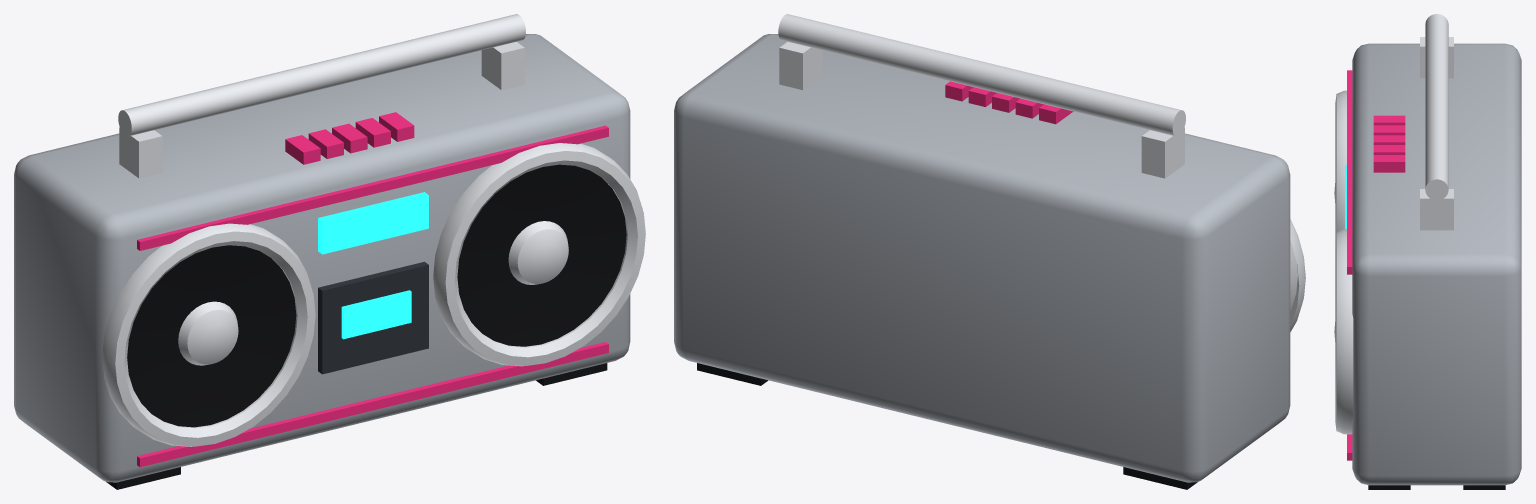
File: boombox-prop.glb
3 renders of one model, left to right at view 1: azimuth 30°, elevation 25°; view 2: azimuth 150°, elevation 25°; view 3: azimuth 270°, elevation 25°, orthographic. The views are drawn at different scales.
Visible parts, largest first — view 1: SM_Boombox; view 2: SM_Boombox; view 3: SM_Boombox.
Part boxes in pixels (<box>): SM_Boombox: <box>14,14,645,489</box>; SM_Boombox: <box>674,14,1305,489</box>; SM_Boombox: <box>1334,14,1521,489</box>.
Size of the model in its own units: 0.504 by 0.303 by 0.177.
